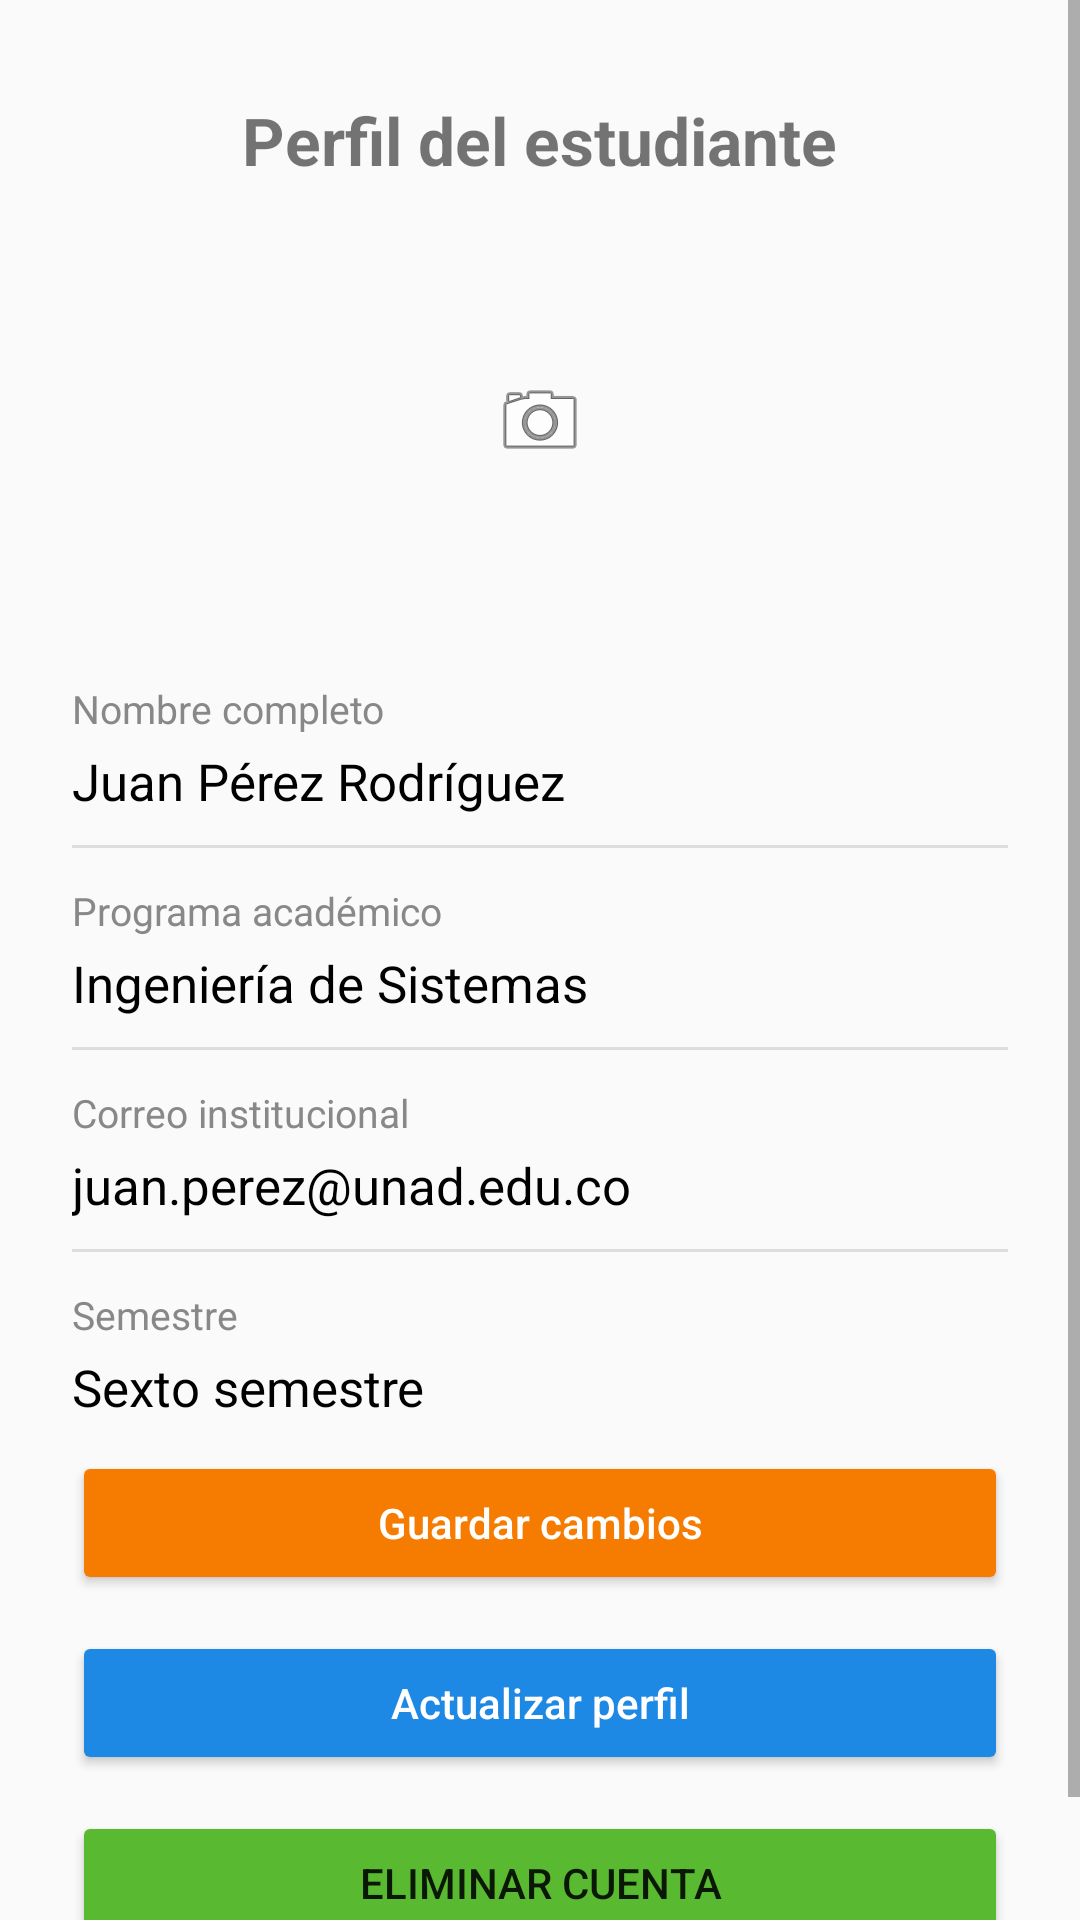

Where icons sit on this 1080 × 1920 app screen, as (x1, y1, x2, y2):
Foto del estudiante: (503, 390, 577, 449)
